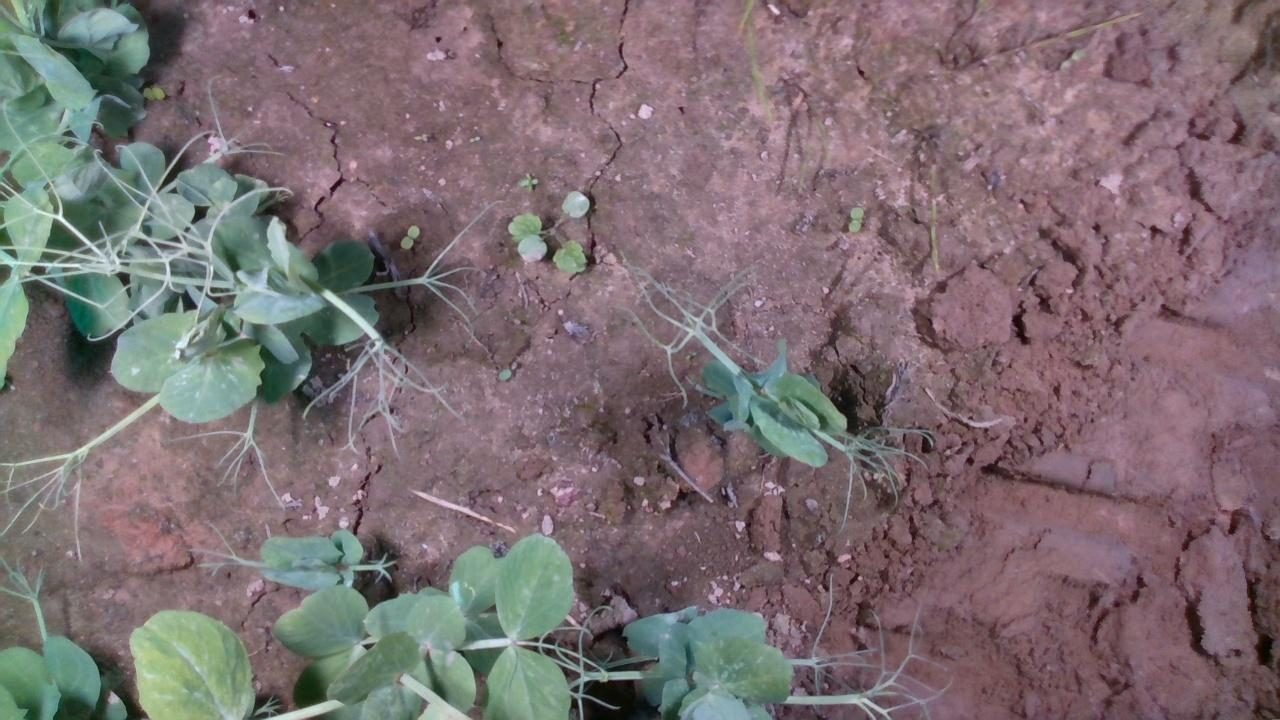weed: (506, 189, 589, 272), (842, 204, 869, 232), (398, 220, 419, 250), (513, 170, 539, 191)
